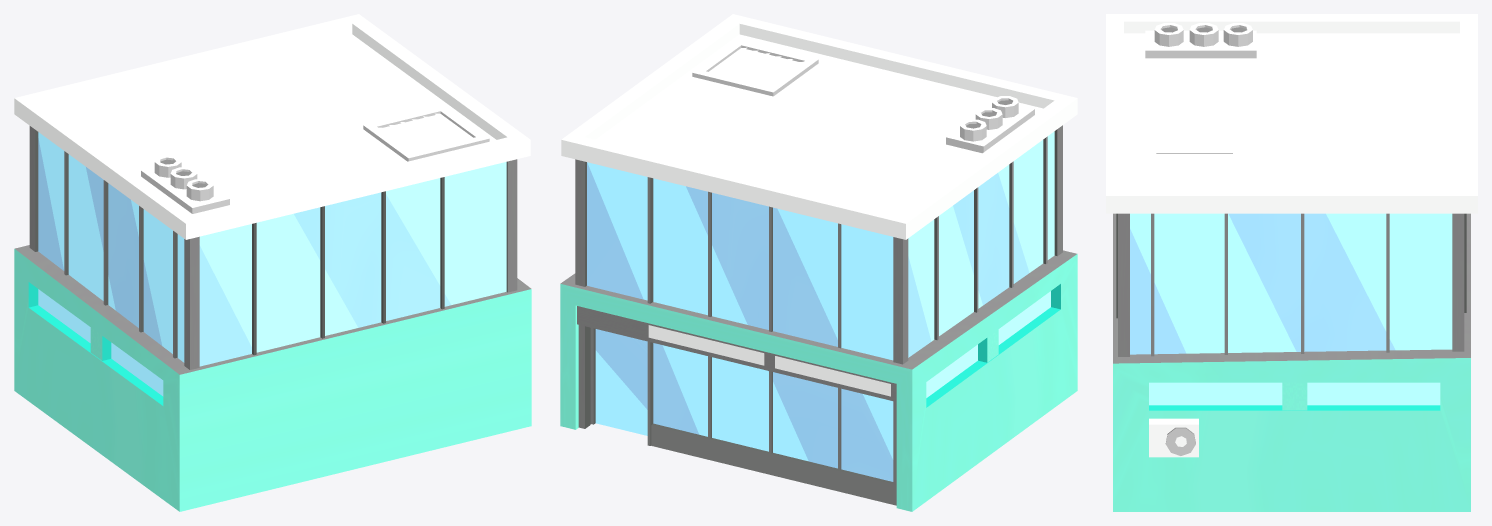
File: supermarket.009.glb
3 views of the same model, side by side, from view 1: azimuth 30°, elevation 25°; view 2: azimuth 150°, elevation 25°; view 3: azimuth 270°, elevation 25° (orthographic). The views are drawn at different scales.
Visible parts, largest first — view 1: supermarket.009(Clone); view 2: supermarket.009(Clone); view 3: supermarket.009(Clone).
Boxes of the visible parts, x1,y1,x2,y2 form: supermarket.009(Clone): (14, 14, 531, 511); supermarket.009(Clone): (560, 14, 1077, 511); supermarket.009(Clone): (1106, 14, 1477, 511).
Bounding box in the file's own units: 7.38 × 5.79 × 6.03.
1 material, 1 textured.
